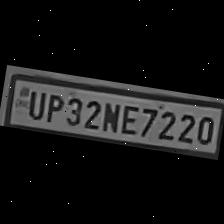0: (192, 110, 216, 145)
2: (153, 106, 178, 142), (79, 93, 103, 130), (172, 108, 197, 143)
3: (60, 91, 84, 126)
7: (134, 103, 158, 138)
E: (118, 100, 142, 136)
N: (98, 97, 121, 132)
P: (42, 88, 66, 123)
U: (22, 86, 46, 120)
